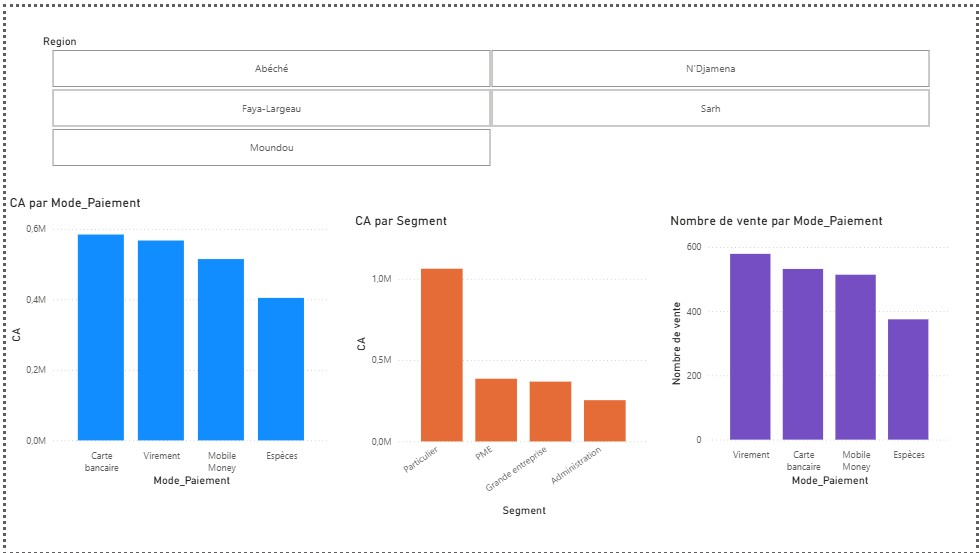

What the dashboard file says about the page in this screenshot:
{"tool":"powerbi","page":{"name":"Analyse des clients et paiement","canvas":[1280,720],"ordinal":3},"visuals":[{"type":"columnChart","fields":{"Category":["Fact_Ventes.Mode_Paiement"],"Y":["Fact_Ventes.Nombre de vente"]},"box":[872.5,272.9,380.5,365.2],"z":0},{"type":"columnChart","fields":{"Category":["Dim_Client.Segment"],"Y":["Fact_Ventes.CA"]},"box":[455.6,272.2,397.8,405.5],"z":1000},{"type":"columnChart","fields":{"Y":["Fact_Ventes.CA"],"Category":["Fact_Ventes.Mode_Paiement"]},"box":[0,247.9,432.4,390.1],"z":2000},{"type":"slicer","fields":{"Values":["Dim_Commercial.Region"]},"box":[36.5,32.7,1206.9,184.5],"z":3000}]}

Visuals, with their boxes in screenshot pixels (x1, y1, x2, y2), scaled from the page's 1280x720 canvas onto the 979x553 screenshot:
columnChart - Fact_Ventes.Mode_Paiement x Fact_Ventes.Nombre de vente: box=[667, 210, 958, 490]
columnChart - Dim_Client.Segment x Fact_Ventes.CA: box=[348, 209, 653, 521]
columnChart - Fact_Ventes.CA x Fact_Ventes.Mode_Paiement: box=[0, 190, 331, 490]
slicer - Dim_Commercial.Region: box=[28, 25, 951, 167]
